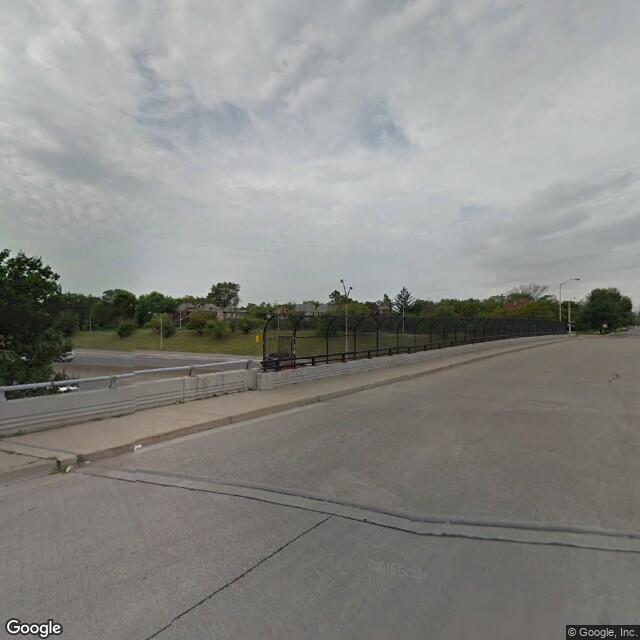litter: (58, 458, 77, 479), (129, 436, 146, 456)
